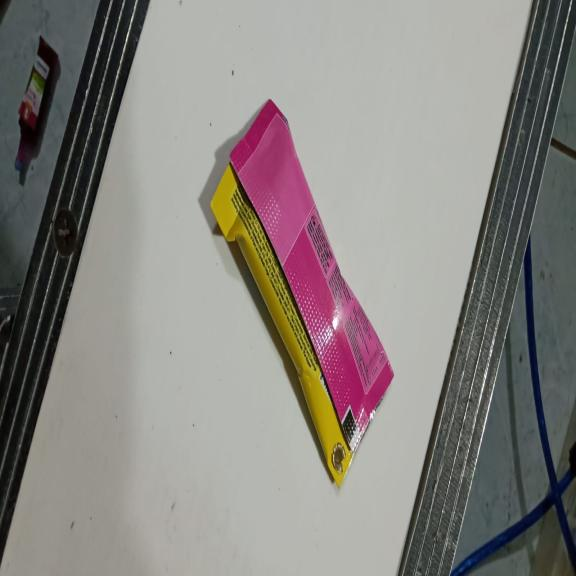Plastik: (212, 101, 395, 494), (14, 38, 60, 179)
